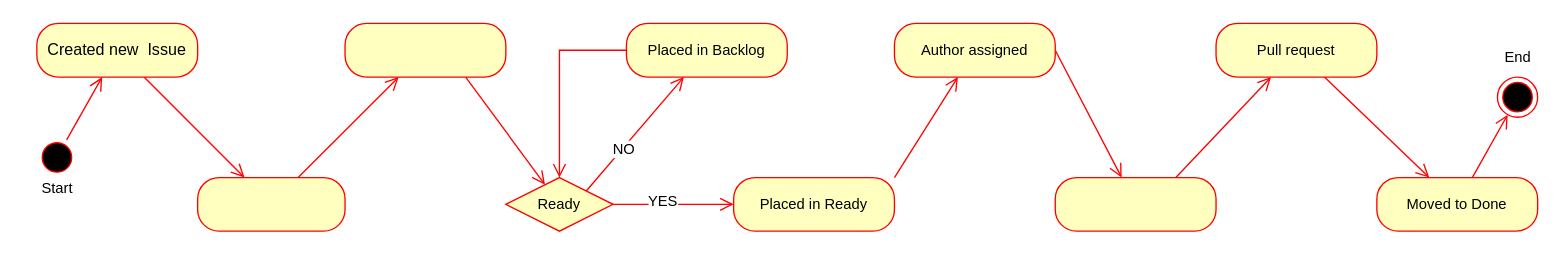
Some shapes in this 1566 by 255 pixel diagram are drawn without their labels. The box of each missing label's shape, as (x1, y1, x2, y2) in pixels:
Moved to In Progress: (1054, 176, 1216, 231)
Project board ticket inserted in New: (196, 176, 345, 231)
Triage tag assigned: (344, 22, 506, 77)
